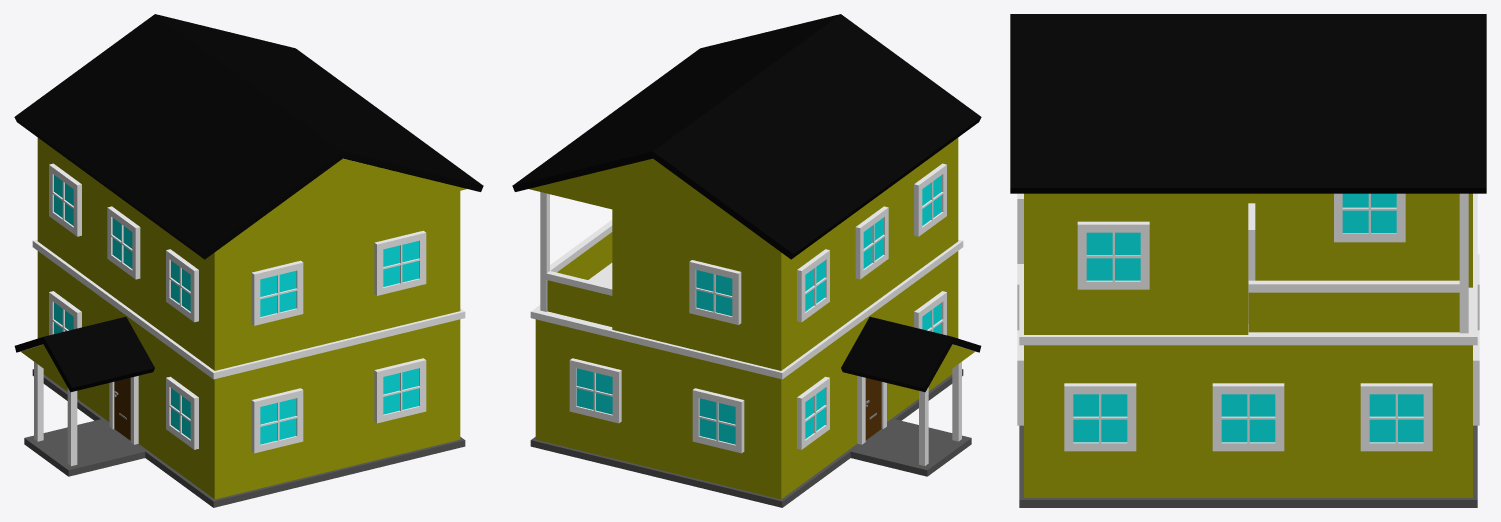
The model's file is house_002_connected.fbx.
3 renders of one model, left to right at view 1: azimuth 30°, elevation 25°; view 2: azimuth 150°, elevation 25°; view 3: azimuth 270°, elevation 25°, orthographic. The views are drawn at different scales.
Visible parts, largest first — view 1: Cube; view 2: Cube; view 3: Cube.
Part boxes in pixels (box(x1,y1,x2,y2)): Cube: box(14, 14, 483, 507); Cube: box(512, 14, 981, 507); Cube: box(1010, 14, 1486, 507).
Bounding box in the file's own units: 1128 × 1022 × 1060.
